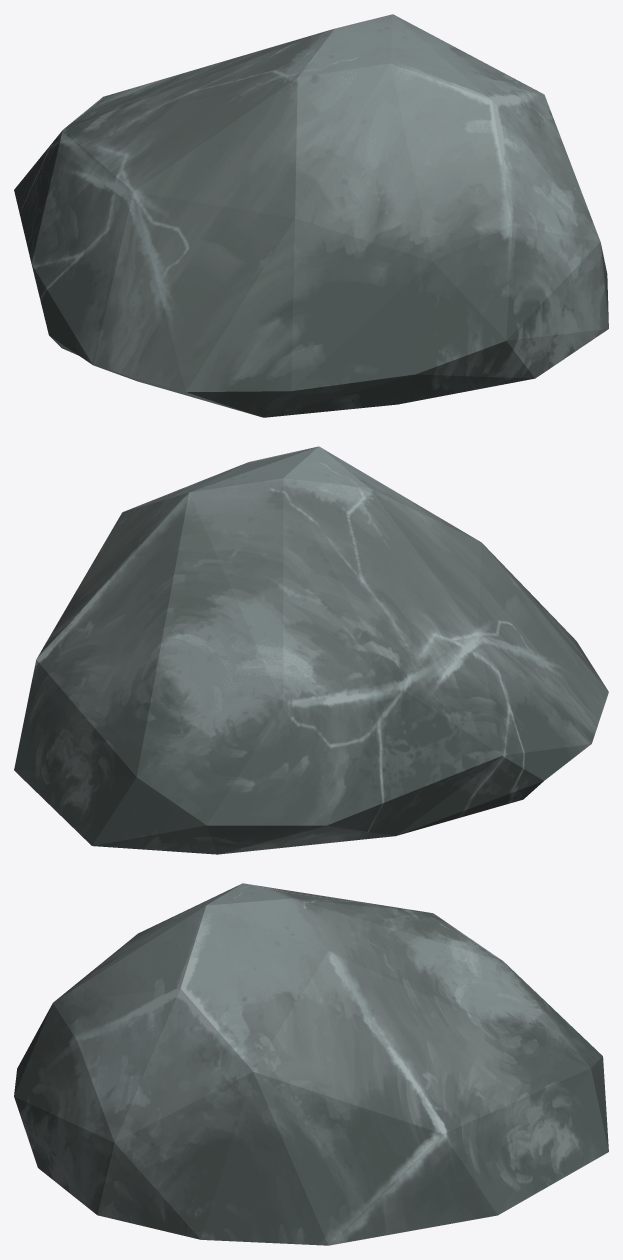
The model's file is glaz_1.obj.
The picture shows the model from 3 angles, top to bottom: view 1: azimuth 30°, elevation 25°; view 2: azimuth 150°, elevation 25°; view 3: azimuth 270°, elevation 25°; orthographic projection. The views are drawn at different scales.
Parts seen in each view (by area): view 1: rock.007; view 2: rock.007; view 3: rock.007.
Part boxes in pixels (x1=…): rock.007: x1=14, y1=14, x2=608, y2=417; rock.007: x1=14, y1=446, x2=608, y2=854; rock.007: x1=14, y1=883, x2=608, y2=1245.
Bounding box in the file's own units: 18.77 × 9.13 × 20.39.
1 material, 1 textured.
